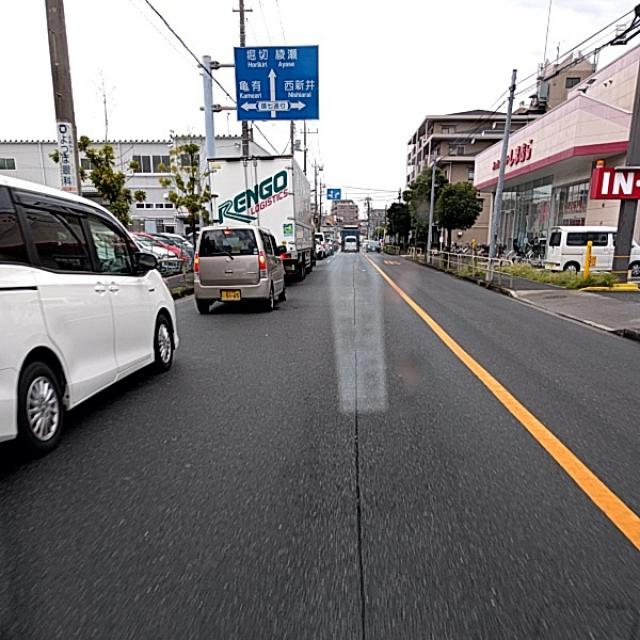pothole: (329, 450, 384, 557)
